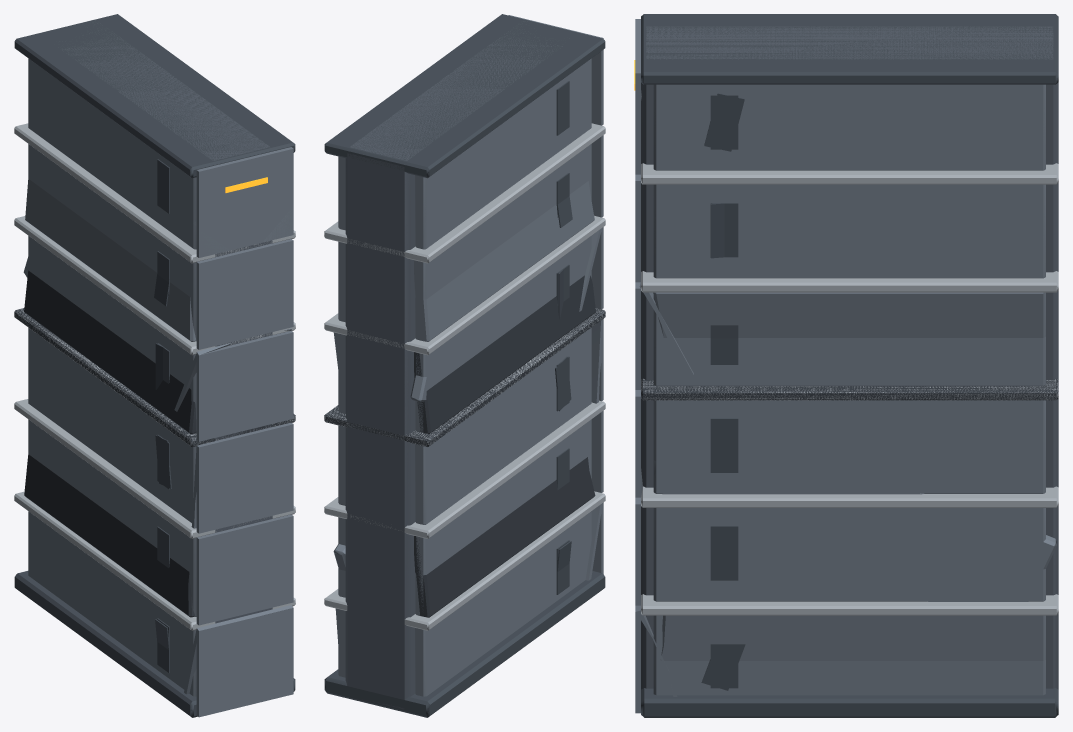
File: hlx_cmp_blast_wall_c.glb
The picture shows the model from 3 angles, left to right: view 1: azimuth 30°, elevation 25°; view 2: azimuth 150°, elevation 25°; view 3: azimuth 270°, elevation 25°; orthographic projection. The views are drawn at different scales.
Parts seen in each view (by area): view 1: mesh_intact, mesh_heavy, mesh_light; view 2: mesh_heavy, mesh_intact, mesh_light; view 3: mesh_intact, mesh_light, mesh_heavy.
Boxes of the visible parts, <box> form: mesh_intact: <box>14,14,295,717</box>; mesh_heavy: <box>14,14,295,717</box>; mesh_light: <box>14,24,295,716</box>; mesh_heavy: <box>324,14,605,717</box>; mesh_intact: <box>324,14,605,716</box>; mesh_light: <box>324,21,603,699</box>; mesh_intact: <box>634,14,1058,717</box>; mesh_light: <box>635,19,1058,713</box>; mesh_heavy: <box>634,14,1058,717</box>.
Bounding box in the file's own units: 0.4 × 2 × 1.19.
